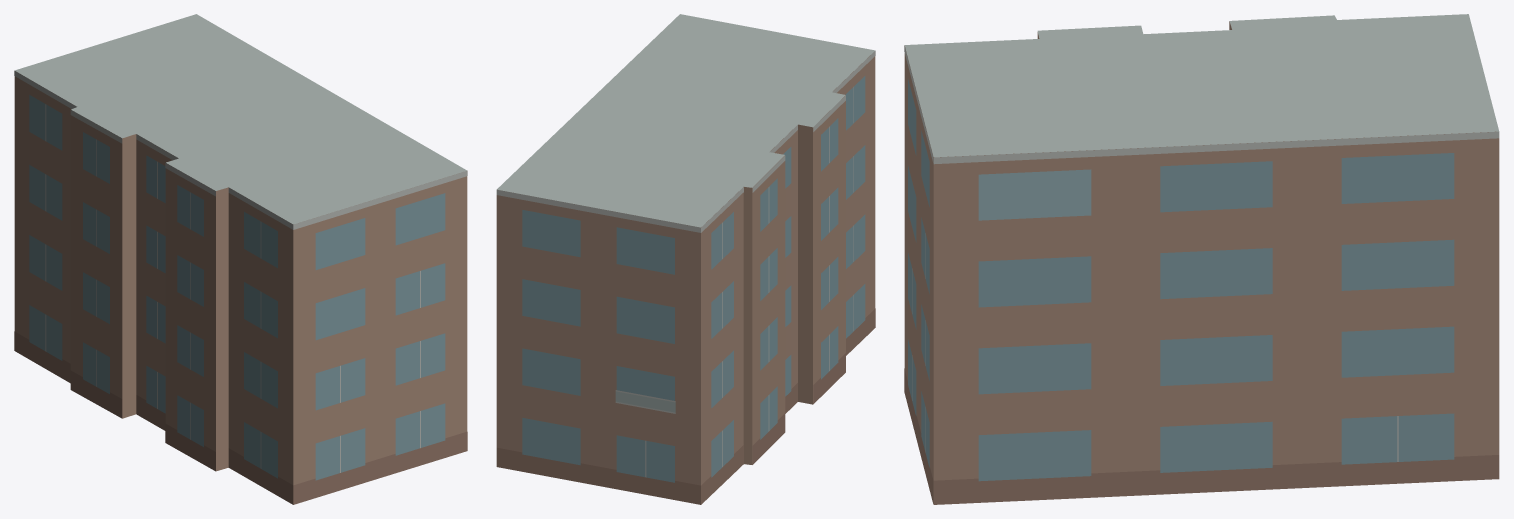
Rendered from survey-upis-32810006.glb.
The picture shows the model from 3 angles, left to right: view 1: azimuth 30°, elevation 25°; view 2: azimuth 150°, elevation 25°; view 3: azimuth 270°, elevation 25°; orthographic projection. The views are drawn at different scales.
Parts seen in each view (by area): view 1: survey-upis-32810006.tmp; view 2: survey-upis-32810006.tmp; view 3: survey-upis-32810006.tmp.
Boxes of the visible parts, bbox=[...] form: survey-upis-32810006.tmp: bbox=[14, 14, 467, 504]; survey-upis-32810006.tmp: bbox=[496, 14, 875, 504]; survey-upis-32810006.tmp: bbox=[904, 14, 1499, 504].
Bounding box in the file's own units: 11.07 × 12.5 × 19.4.
